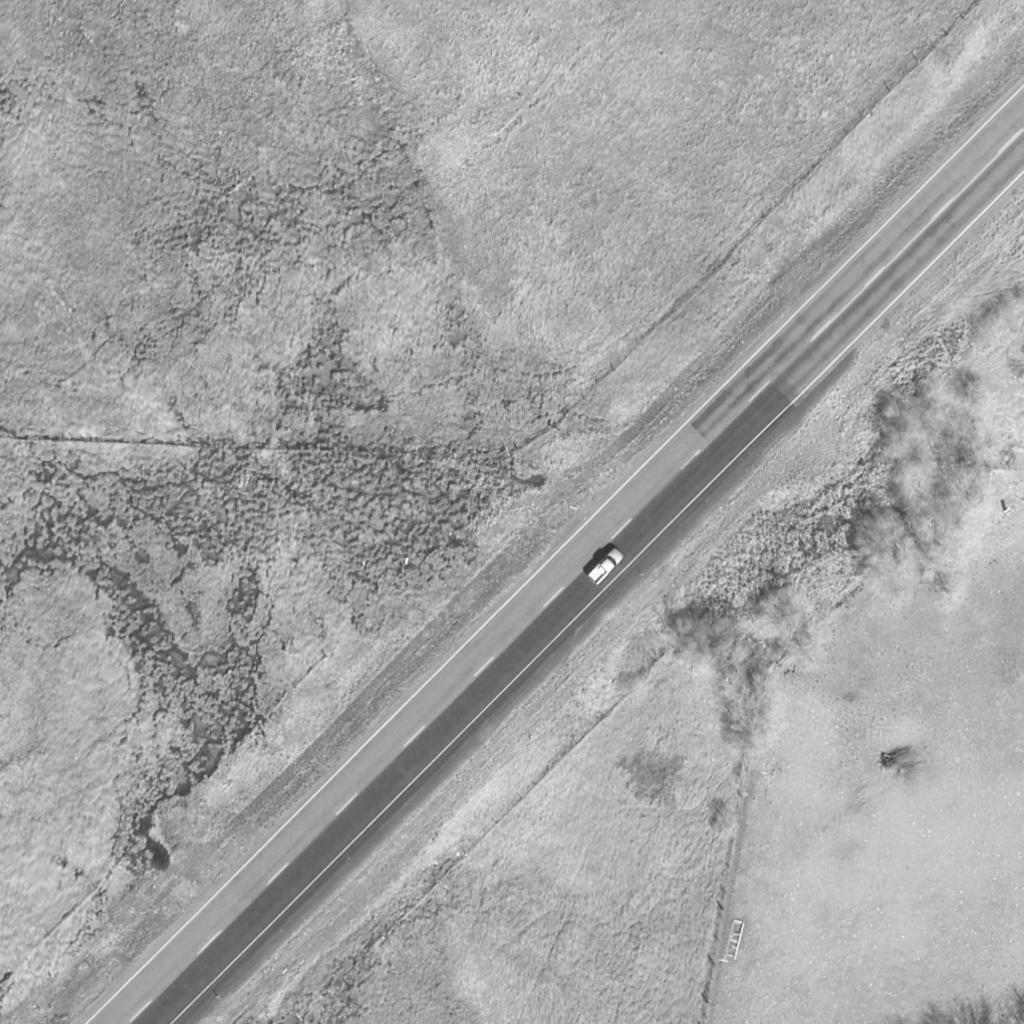vehicle: (586, 550, 626, 584)
